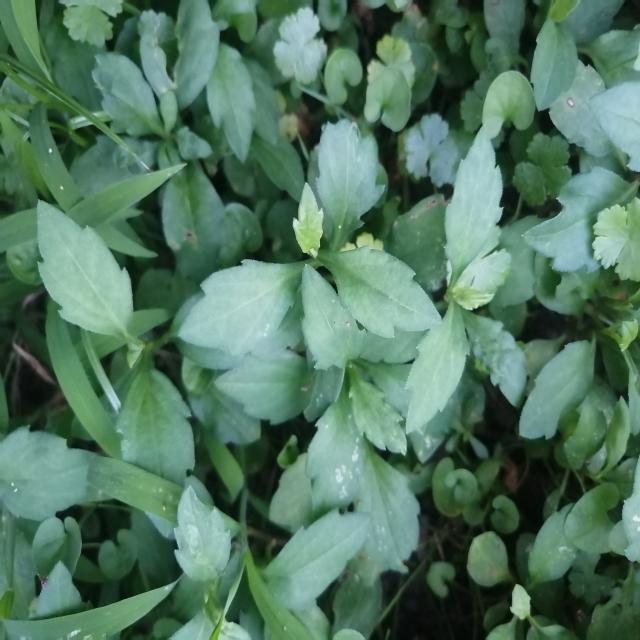Indian aster: (27, 201, 218, 456), (211, 149, 408, 396), (426, 130, 533, 460)
